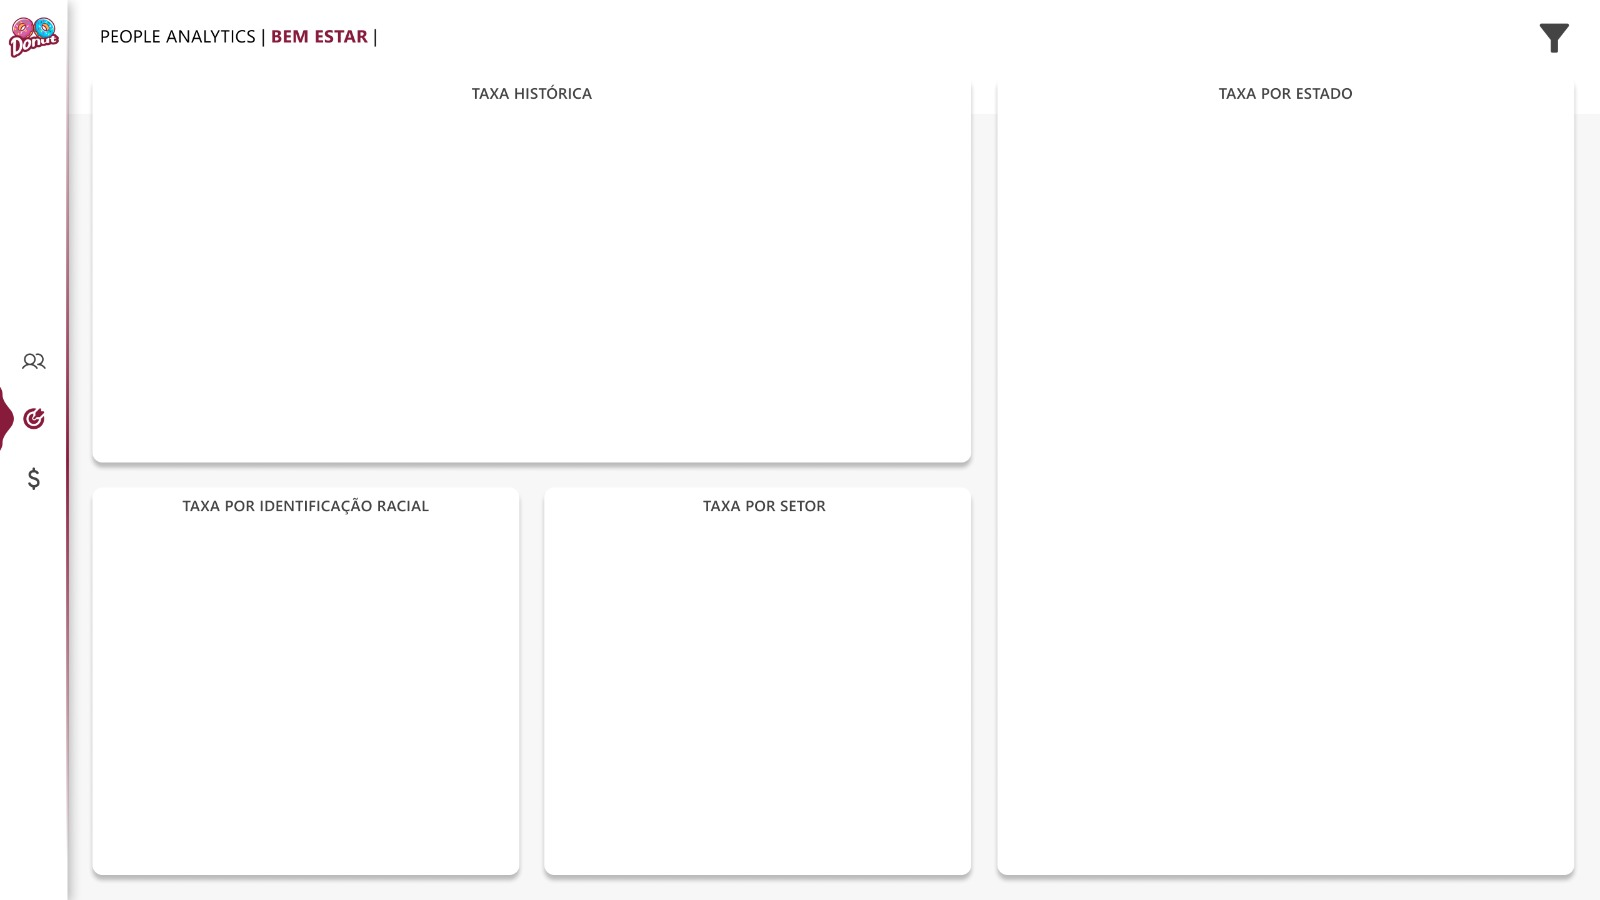

The dashboard page shown, as its layout file describes it:
{"tool":"powerbi","page":{"name":"Bem Estar","canvas":[1280,720],"ordinal":1},"visuals":[{"type":"card","fields":{"Values":["_Metricas.Turnover"]},"box":[583,0,196,81.7],"z":0},{"type":"clusteredColumnChart","fields":{"Y":["_Metricas.Turnover"],"Category":["D_Calendario.Data.Variation.Hierarquia de datas.Mês"]},"box":[70.5,107.2,708.6,262.4],"z":1000},{"type":"shapeMap","fields":{"Category":["D_Regioes.Estado"]},"box":[798.5,95,462.5,606.5],"z":2000},{"type":"slicer","fields":{"Values":["paramentro_TipoPesquisa.paramentro_TipoPesquisa"]},"box":[77.6,44.9,155.2,73.5],"z":3000},{"type":"donutChart","fields":{"Y":["_Metricas.Turnover"],"Category":["F_Registros.identificacao_racial"]},"box":[70.5,398.2,344.1,303.3],"z":4000},{"type":"treemap","fields":{"Values":["_Metricas.Turnover"],"Details":["D_Departamentos.departamento"]},"box":[432.9,408.4,346.1,293],"z":5000},{"type":"pageNavigator","box":[11.4,279.8,30.7,118.4],"z":7500}]}

Visuals, with their boxes in screenshot pixels (x1, y1, x2, y2):
card - _Metricas.Turnover: <box>716,0,966,84</box>
clusteredColumnChart - _Metricas.Turnover x D_Calendario.Data.Variation.Hierarquia de datas.Mês: <box>61,116,967,452</box>
shapeMap - D_Regioes.Estado: <box>991,101,1582,876</box>
slicer - paramentro_TipoPesquisa.paramentro_TipoPesquisa: <box>70,37,268,130</box>
donutChart - _Metricas.Turnover x F_Registros.identificacao_racial: <box>61,488,501,876</box>
treemap - _Metricas.Turnover x D_Departamentos.departamento: <box>524,501,966,876</box>
pageNavigator: <box>0,337,25,488</box>
